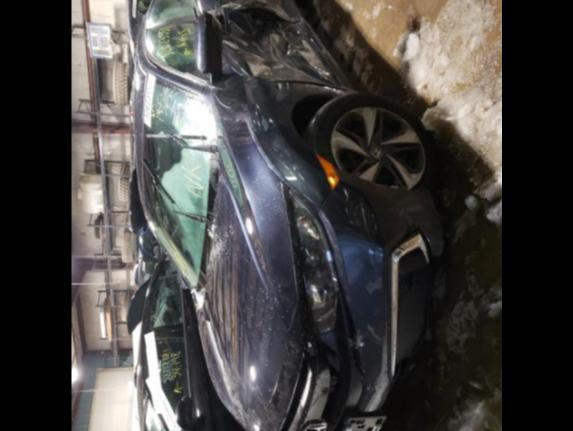Dent: (213, 0, 336, 106)
Missing part: (342, 417, 382, 431)
Scratch: (212, 0, 248, 39), (228, 57, 255, 84), (307, 55, 334, 81), (294, 28, 320, 53), (280, 27, 294, 66), (251, 102, 271, 127), (220, 36, 247, 51), (320, 85, 346, 97), (258, 0, 283, 10)
